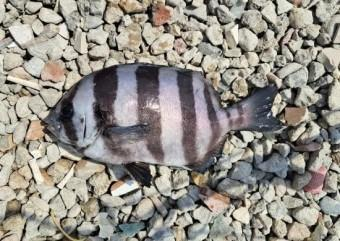fish: (44, 64, 285, 190)
